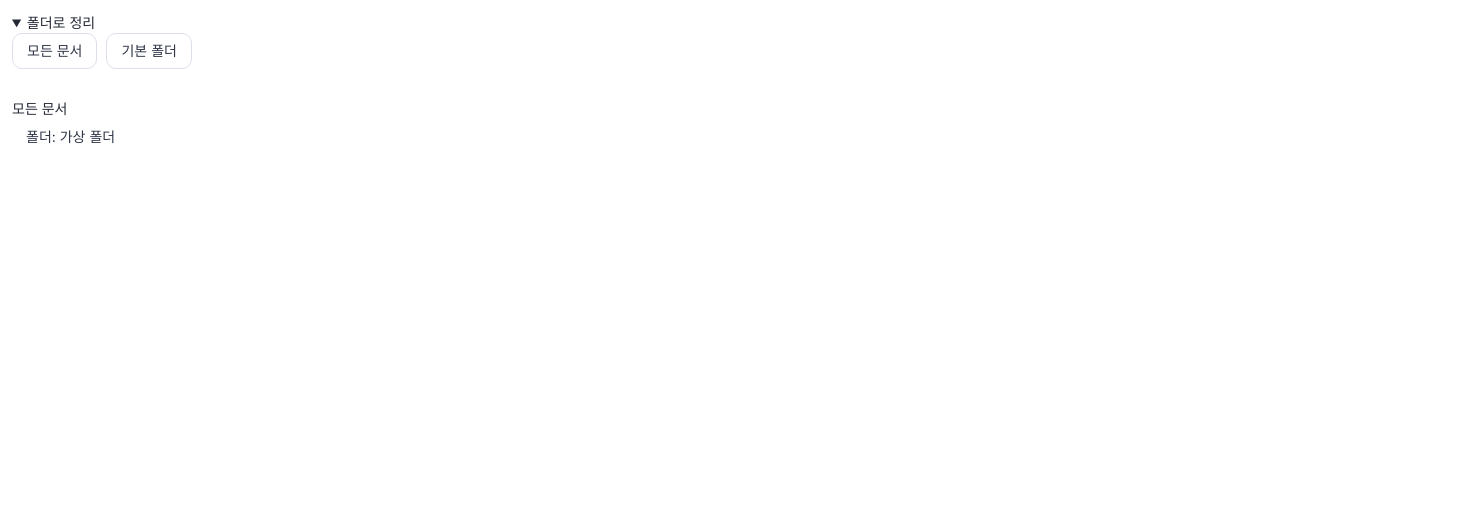
Test: 현재 폴더 아래 생성하며 실패해도 입력 이름을 보존한다
Click the button "폴더: 가상 폴더" at (71, 137), box [12,119,129,155]
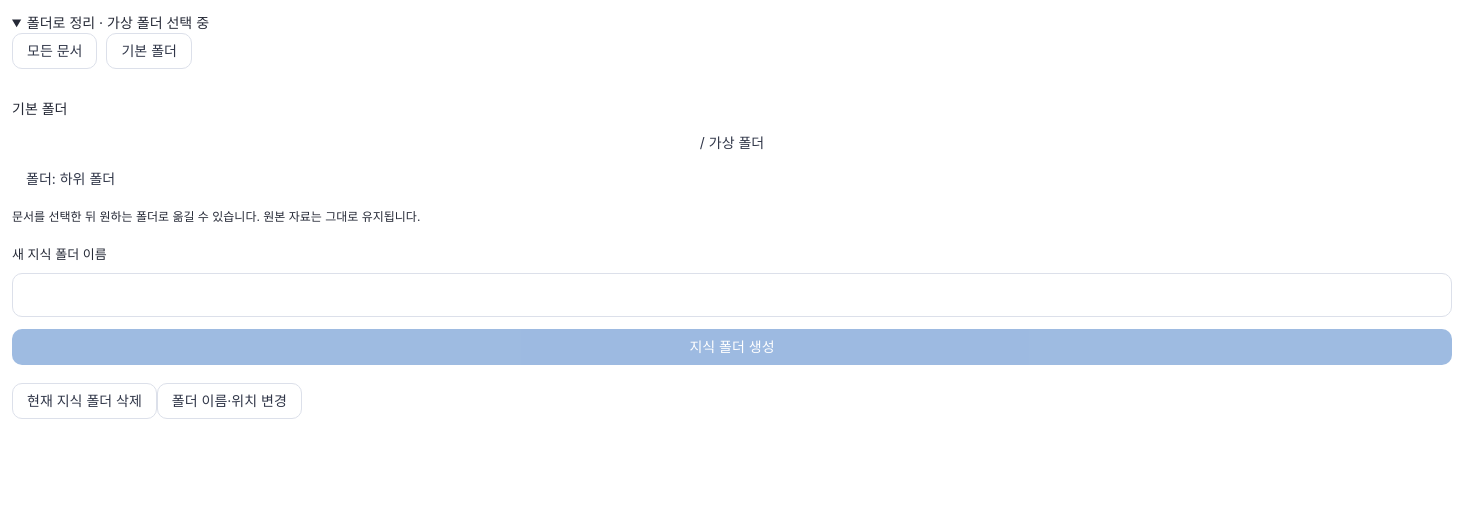
Type "새 폴더" into the field labelled "새 지식 폴더 이름" at (732, 295), box [12,273,1452,317]
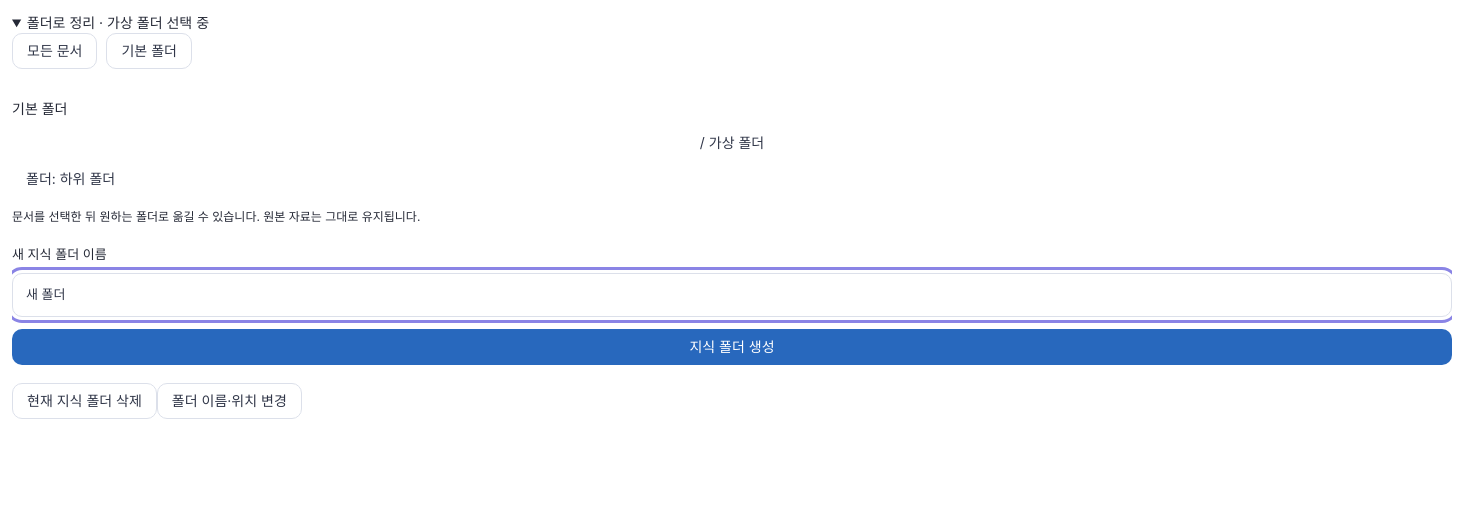
Click the button "지식 폴더 생성" at (732, 347), box [12,329,1452,365]
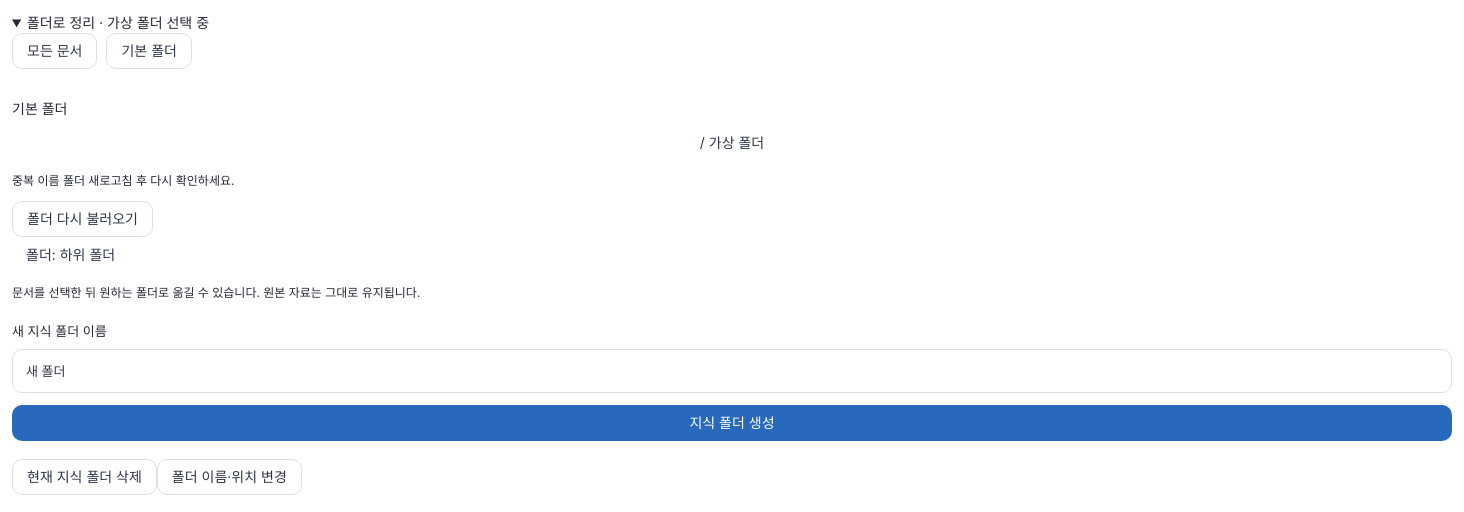
Now the message shows "중복 이름", box [12,173,234,188]
